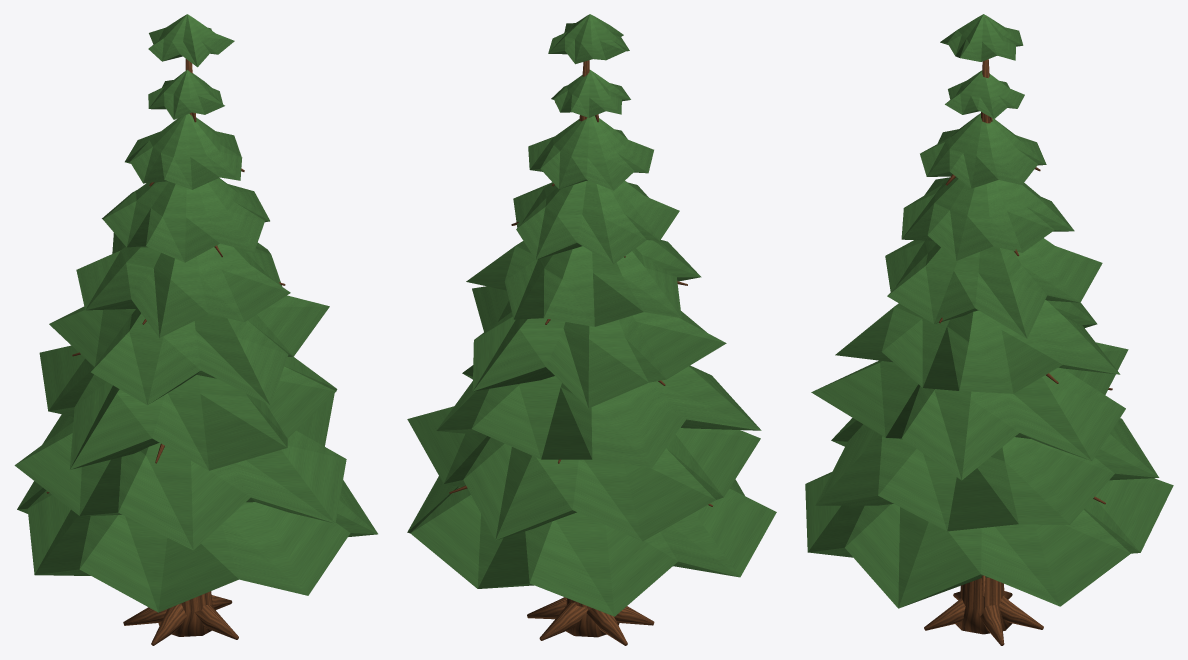
The model's file is FacetedFir_LOD0.glb.
3 renders of one model, left to right at view 1: azimuth 30°, elevation 25°; view 2: azimuth 150°, elevation 25°; view 3: azimuth 270°, elevation 25°, orthographic.
Visible parts, largest first — view 1: SM_FacetedFir_Foliage_LOD0, SM_FacetedFir_Bark_LOD0; view 2: SM_FacetedFir_Foliage_LOD0, SM_FacetedFir_Bark_LOD0; view 3: SM_FacetedFir_Foliage_LOD0, SM_FacetedFir_Bark_LOD0.
Boxes of the visible parts, bbox=[...] form: SM_FacetedFir_Foliage_LOD0: bbox=[14, 14, 377, 612]; SM_FacetedFir_Bark_LOD0: bbox=[46, 59, 285, 645]; SM_FacetedFir_Foliage_LOD0: bbox=[407, 14, 776, 616]; SM_FacetedFir_Bark_LOD0: bbox=[449, 17, 712, 645]; SM_FacetedFir_Foliage_LOD0: bbox=[805, 14, 1173, 608]; SM_FacetedFir_Bark_LOD0: bbox=[924, 17, 1112, 645].
Bounding box in the file's own units: 4.58 × 8.44 × 4.64.
2 materials, 2 textured.
